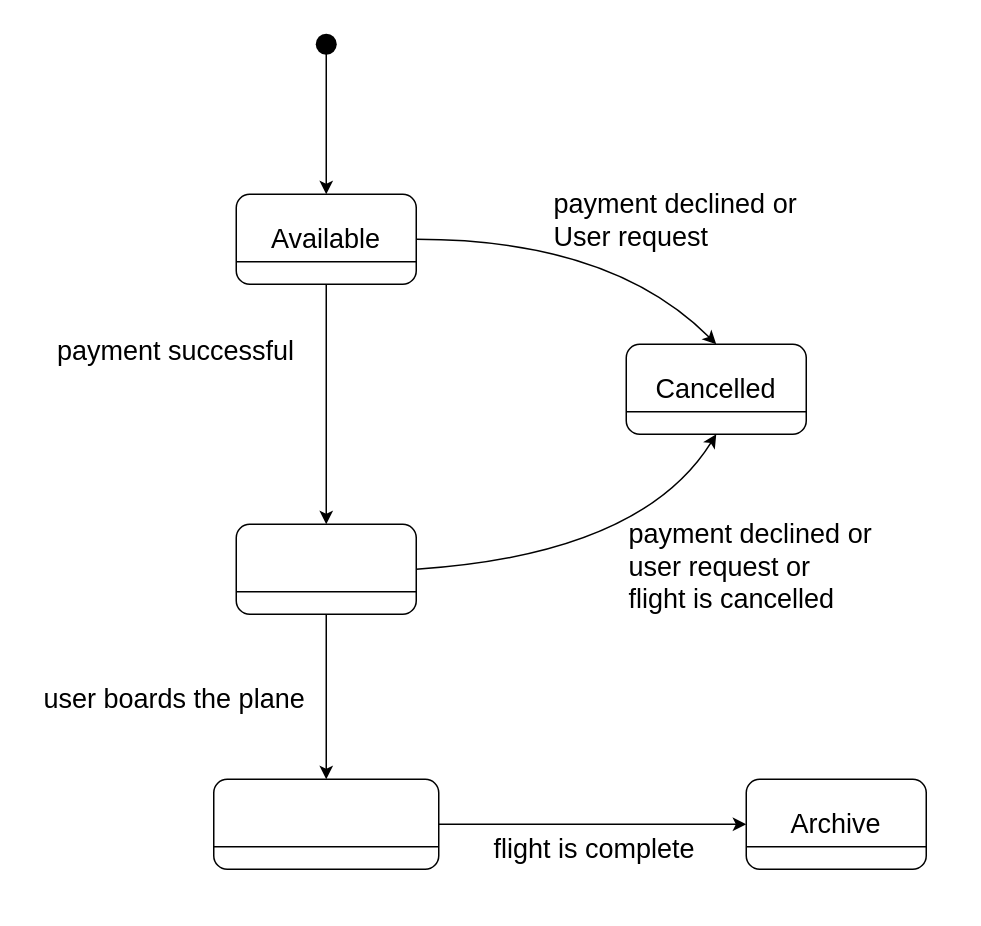
Image size: 981x926. Some labels were removed from this diagram. The shapes that lost their labels are listed below. From the top down, each one's centre as x and y in pixels, then its label:
At point 325,568: "Purchased".
At point 325,823: "In Flight".
